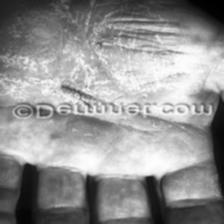Non-Cancerous Skin Condition: (59, 113, 224, 212)
